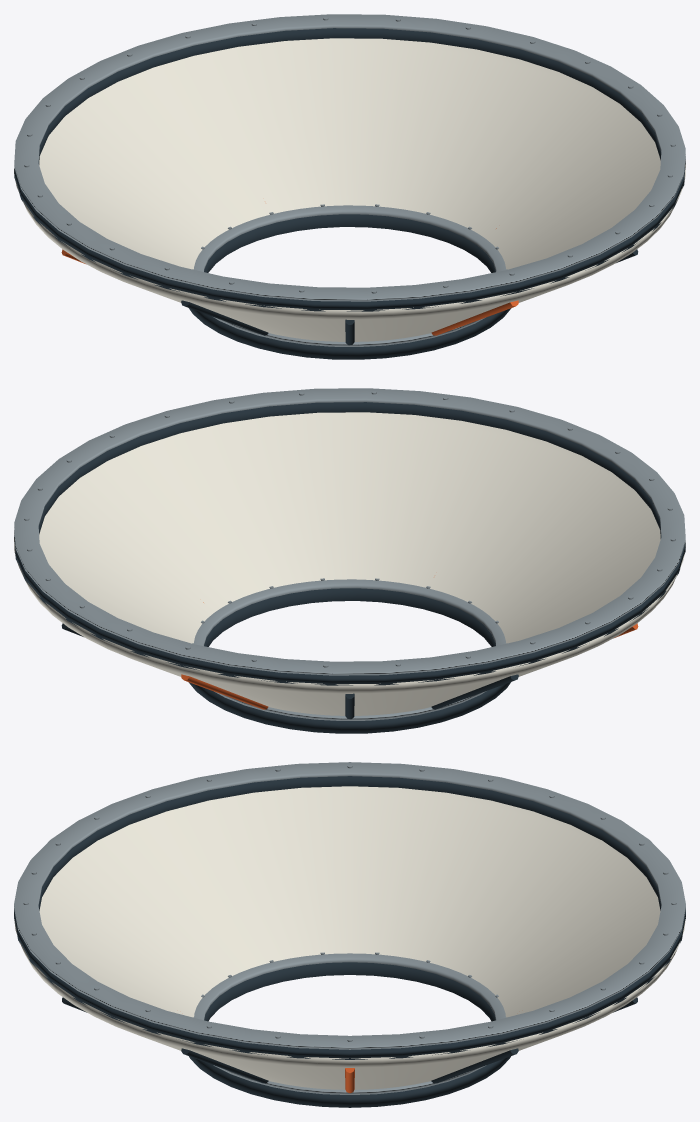
The model's file is p_2512_konus.glb.
The picture shows the model from 3 angles, top to bottom: view 1: azimuth 30°, elevation 25°; view 2: azimuth 150°, elevation 25°; view 3: azimuth 270°, elevation 25°; orthographic projection.
Visible parts, largest first — view 1: p_2512_konus.mesh_JUGRE_·_bone_ceramic, p_2512_konus.mesh_JUGRE_·_bead-blasted_titanium, p_2512_konus.mesh_JUGRE_·_graphite_composite, p_2512_konus.mesh_JUGRE_·_oxide_orange; view 2: p_2512_konus.mesh_JUGRE_·_bone_ceramic, p_2512_konus.mesh_JUGRE_·_bead-blasted_titanium, p_2512_konus.mesh_JUGRE_·_graphite_composite, p_2512_konus.mesh_JUGRE_·_oxide_orange; view 3: p_2512_konus.mesh_JUGRE_·_bone_ceramic, p_2512_konus.mesh_JUGRE_·_bead-blasted_titanium, p_2512_konus.mesh_JUGRE_·_graphite_composite.
Boxes of the visible parts, <box> form: p_2512_konus.mesh_JUGRE_·_bone_ceramic: <box>14,38,685,341</box>; p_2512_konus.mesh_JUGRE_·_bead-blasted_titanium: <box>14,14,685,346</box>; p_2512_konus.mesh_JUGRE_·_graphite_composite: <box>14,28,685,359</box>; p_2512_konus.mesh_JUGRE_·_oxide_orange: <box>61,228,518,335</box>; p_2512_konus.mesh_JUGRE_·_bone_ceramic: <box>14,412,685,715</box>; p_2512_konus.mesh_JUGRE_·_bead-blasted_titanium: <box>14,388,685,720</box>; p_2512_konus.mesh_JUGRE_·_graphite_composite: <box>14,402,685,733</box>; p_2512_konus.mesh_JUGRE_·_oxide_orange: <box>181,602,638,709</box>; p_2512_konus.mesh_JUGRE_·_bone_ceramic: <box>14,786,685,1089</box>; p_2512_konus.mesh_JUGRE_·_bead-blasted_titanium: <box>14,762,685,1094</box>; p_2512_konus.mesh_JUGRE_·_graphite_composite: <box>14,776,685,1107</box>.
Size of the model in its own units: 2.5 by 0.55 by 2.5.
